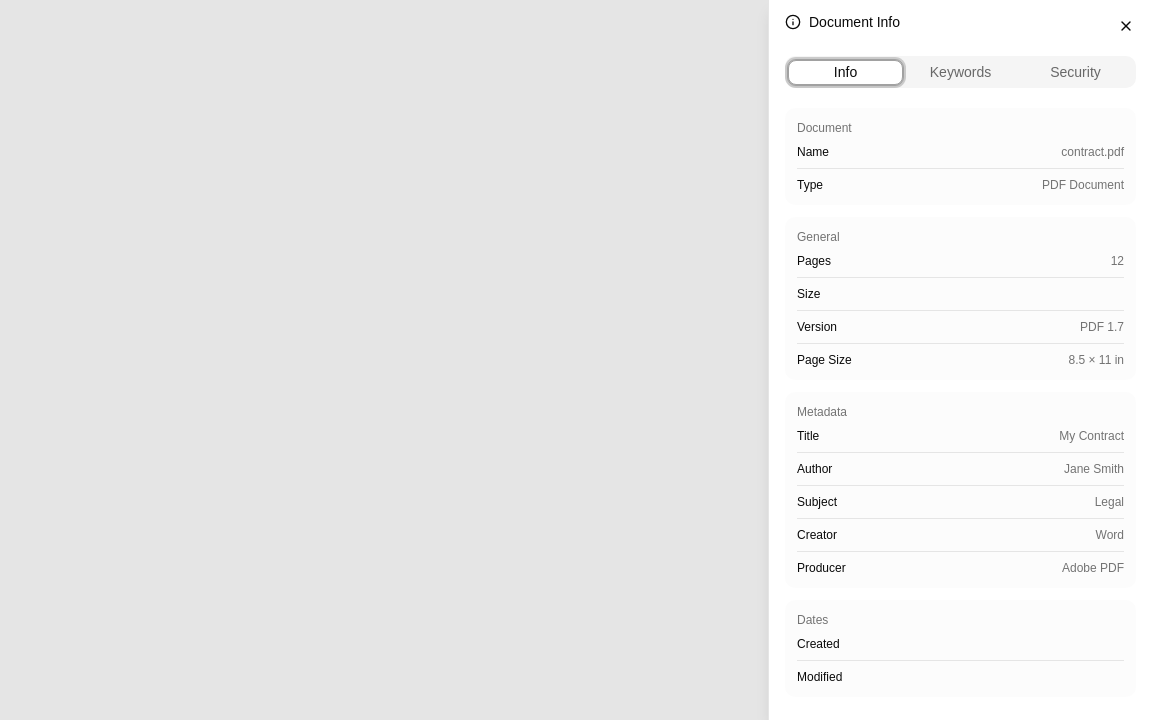
Test case: InfoPanel — Keywords tab › shows keyword badges for comma-separated keywords
Click the tab "Keywords" at (960, 72), box [903,60,1018,84]
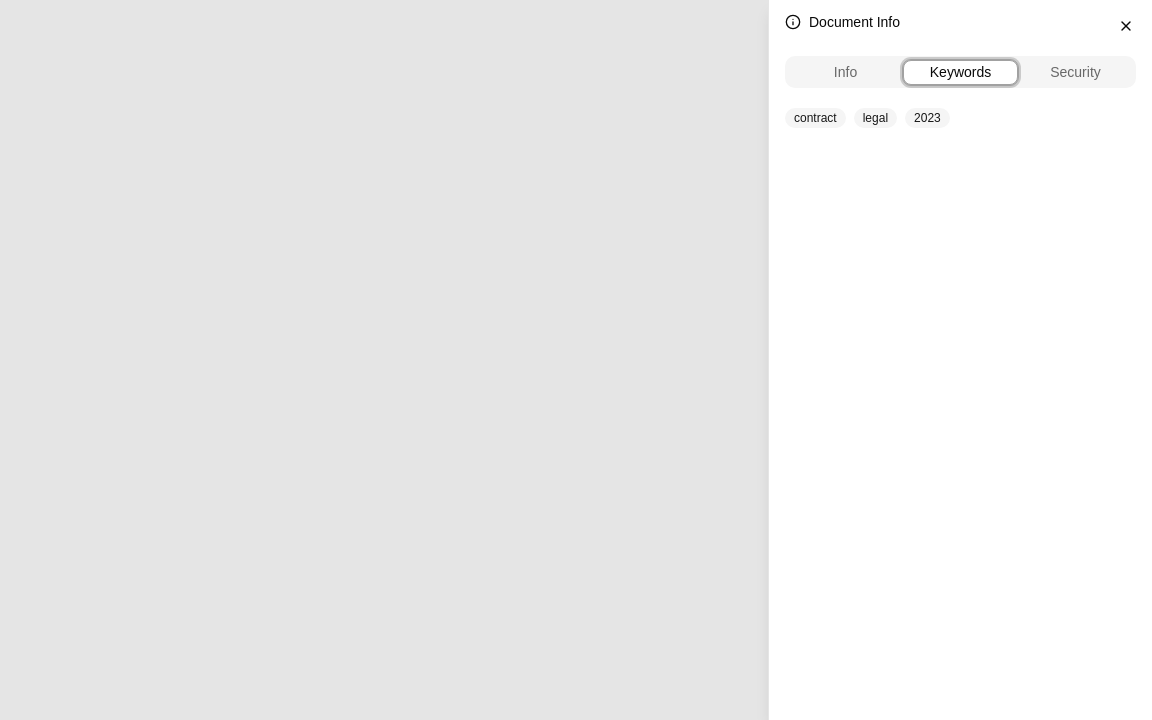
Expected: the text "contract" is shown, [785,108,846,128]
Now the icon "2023" is shown, box [905,108,950,128]
